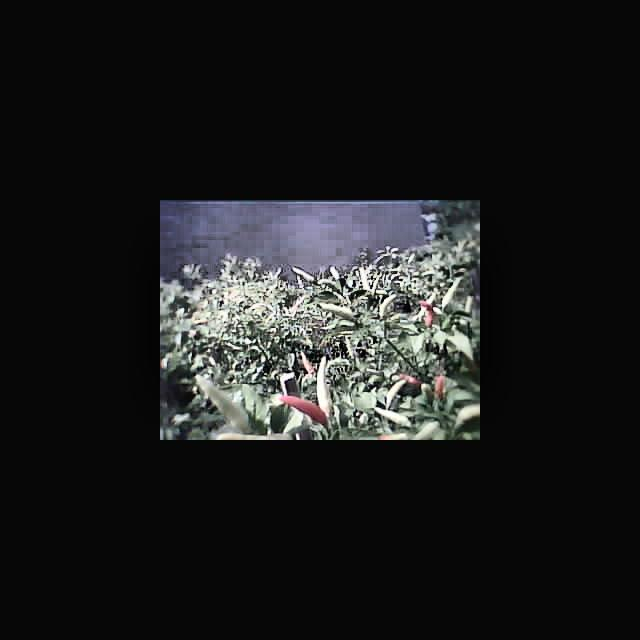Cabai: (280, 392, 326, 430), (421, 294, 443, 327)
